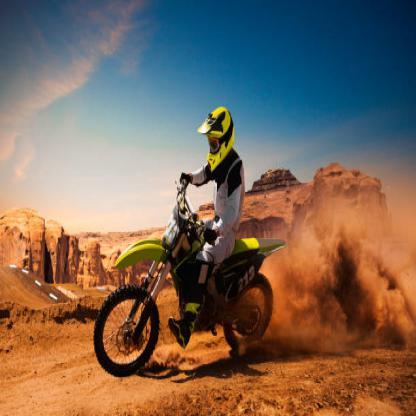Motorcycle: (94, 177, 281, 378)
